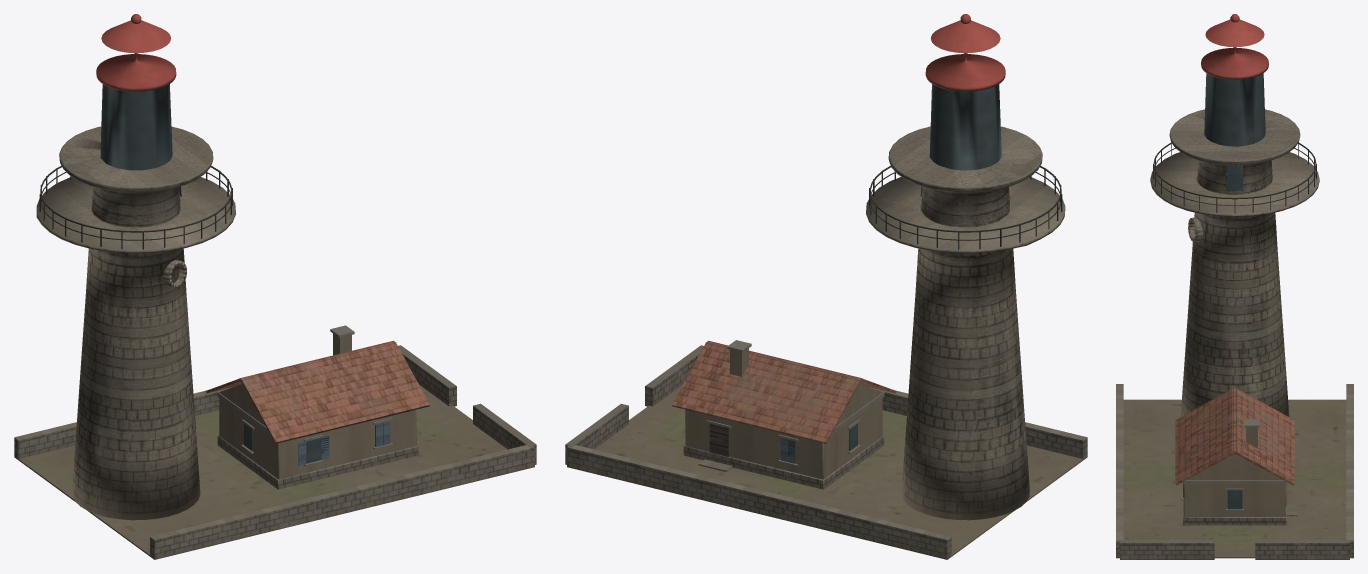
File: a04_lighthouse.glb
The picture shows the model from 3 angles, left to right: view 1: azimuth 30°, elevation 25°; view 2: azimuth 150°, elevation 25°; view 3: azimuth 270°, elevation 25°; orthographic projection. The views are drawn at different scales.
Visible parts, largest first — view 1: body; view 2: body; view 3: body.
Part boxes in pixels (left/top/right/bottom): body: left=14, top=14, right=536, bottom=559; body: left=565, top=14, right=1087, bottom=559; body: left=1116, top=14, right=1353, bottom=559.
Size of the model in its own units: 1 by 1.1 by 0.58.
Materials: 1 (1 with a texture image).
